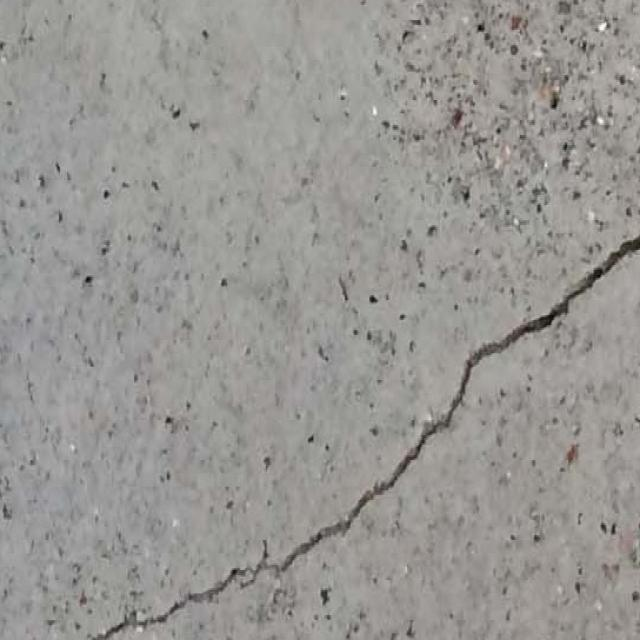Diagonal: (89, 235, 639, 640)
